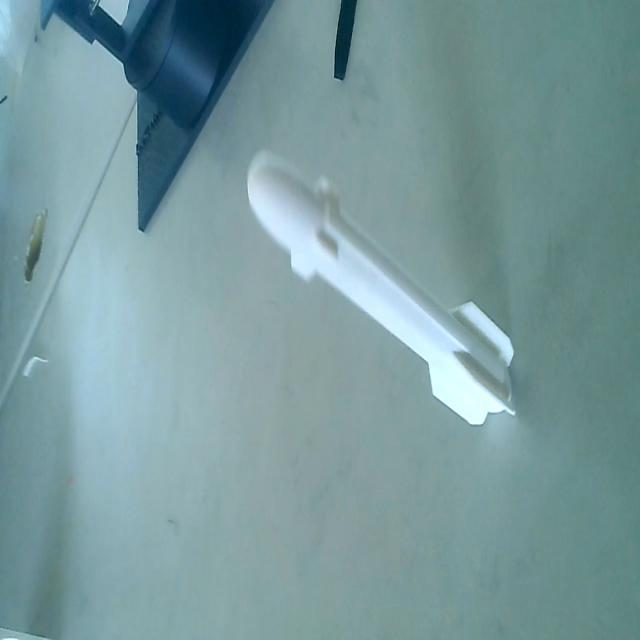Rocket: (244, 140, 518, 429)
